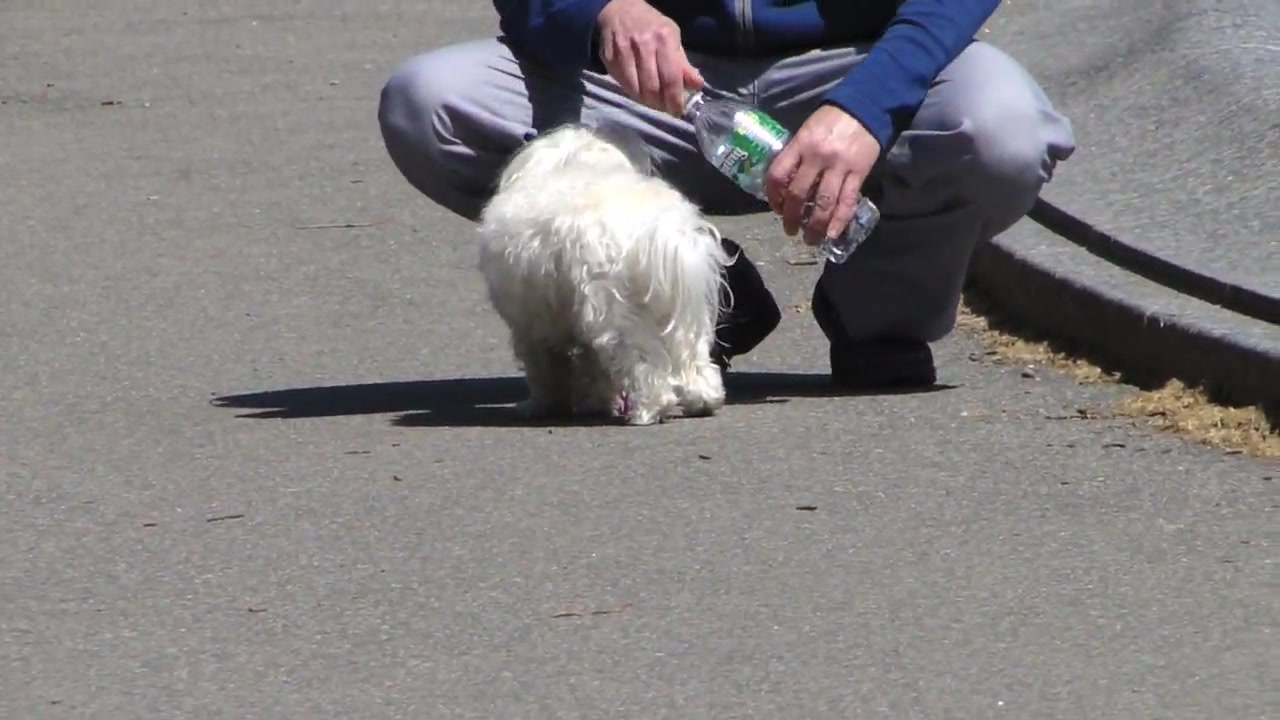dog: (477, 127, 742, 429)
